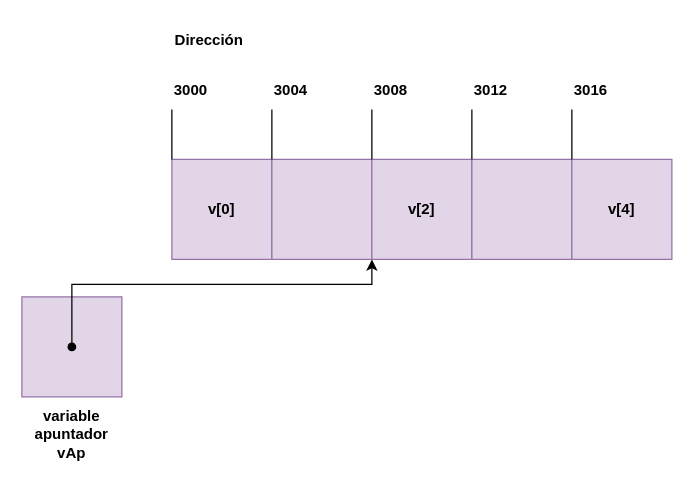
The diagram is 694 pixels wide and 483 high, and some of its shapes have lost their labels. Each missing label, with the box of its shape:
v[1]: (271, 158, 372, 259)
v[3]: (471, 158, 572, 259)
